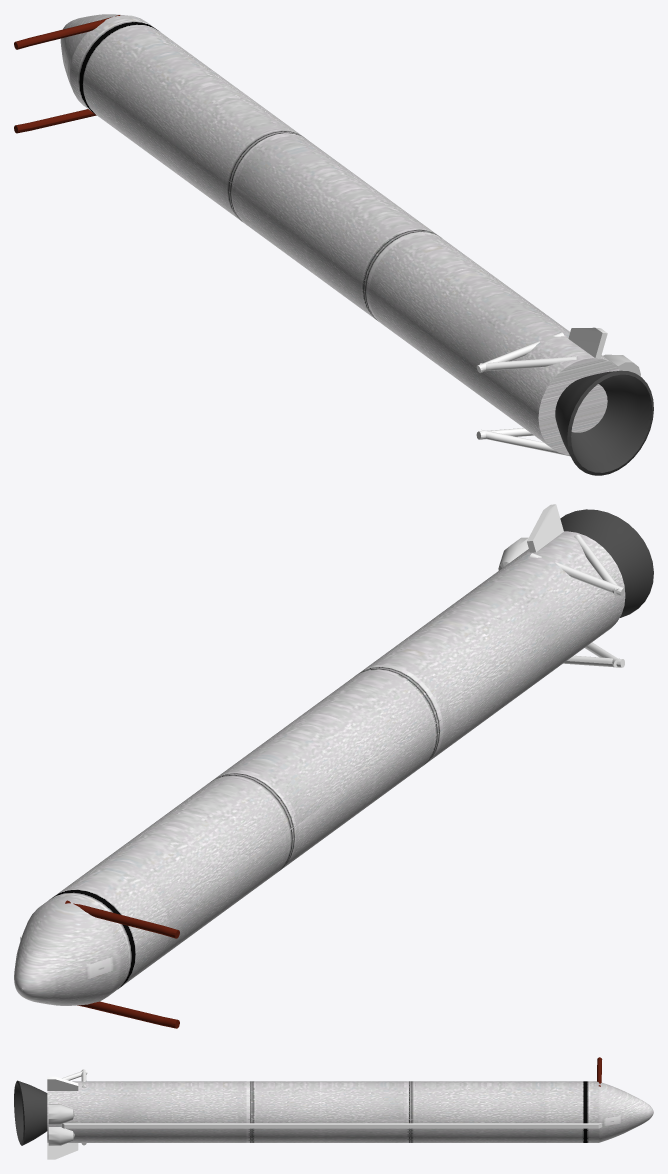
File: srmuw.obj
The picture shows the model from 3 angles, top to bottom: view 1: azimuth 30°, elevation 25°; view 2: azimuth 150°, elevation 25°; view 3: azimuth 270°, elevation 25°; orthographic projection. The views are drawn at different scales.
Visible parts, largest first — view 1: group2, group12, group8, group10, group11, group5; view 2: group2, group12, group8, group10, group11; view 3: group2, group9, group12, group0, group1, group7, group8.
Boxes of the visible parts, <box> form: group2: <box>60,14,620,455</box>; group12: <box>555,370,653,475</box>; group8: <box>568,327,607,358</box>; group10: <box>14,15,120,49</box>; group11: <box>14,109,96,133</box>; group5: <box>480,356,577,370</box>; group2: <box>14,531,625,1005</box>; group12: <box>560,509,653,617</box>; group8: <box>527,504,563,552</box>; group10: <box>65,900,179,938</box>; group11: <box>77,1001,179,1028</box>; group2: <box>47,1081,653,1142</box>; group9: <box>62,1123,602,1128</box>; group12: <box>14,1080,47,1145</box>; group0: <box>48,1104,74,1124</box>; group1: <box>48,1127,74,1145</box>; group7: <box>47,1143,78,1159</box>; group8: <box>47,1076,78,1090</box>.
Bounding box in the file's own units: 5.33 × 4.55 × 32.02.
Materials: 6 (1 with a texture image).
